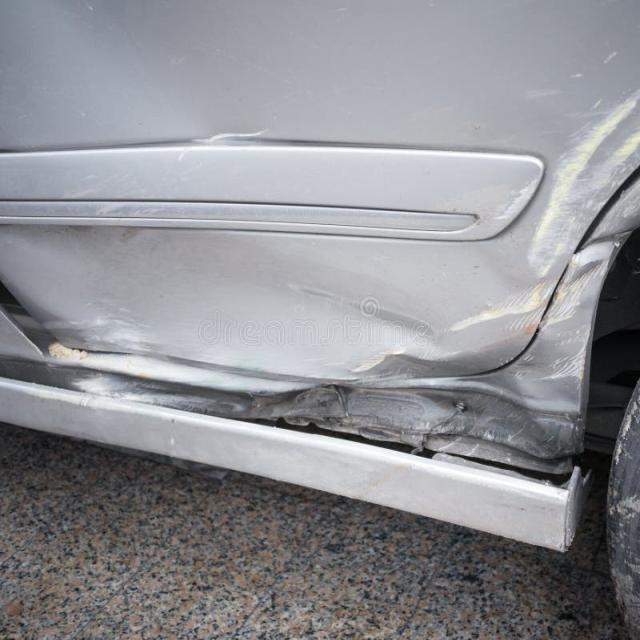crush: (0, 0, 640, 500)
